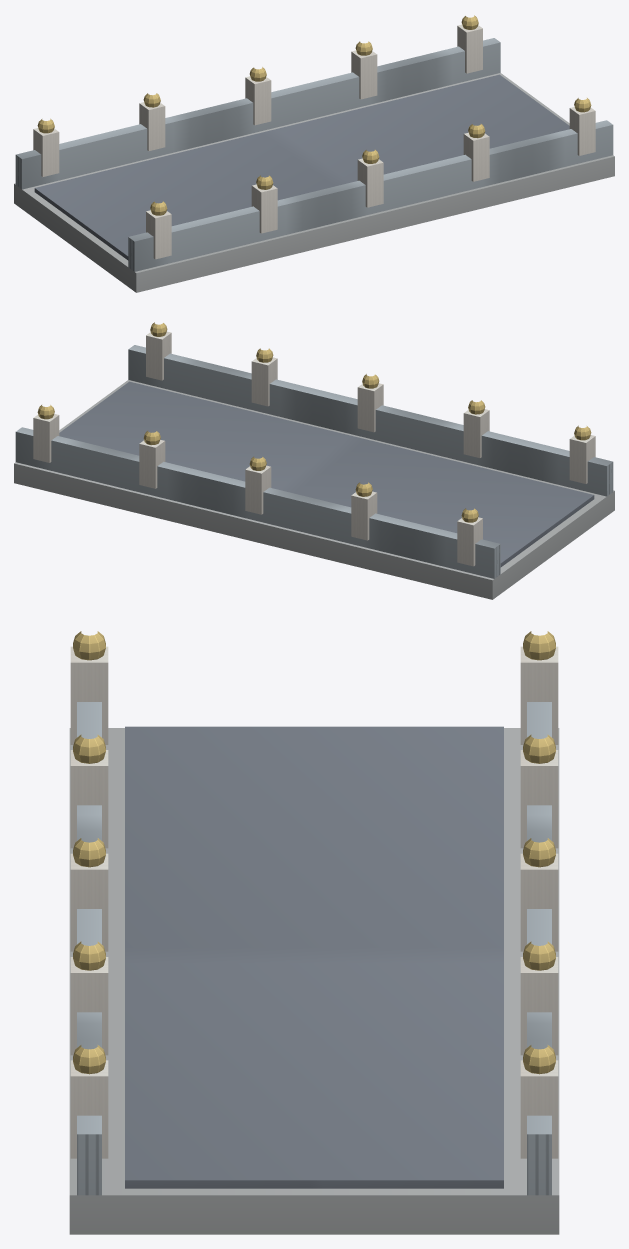
The model's file is bridge_canal.glb.
3 renders of one model, top to bottom at view 1: azimuth 30°, elevation 25°; view 2: azimuth 150°, elevation 25°; view 3: azimuth 270°, elevation 25°, orthographic. The views are drawn at different scales.
Visible parts, largest first — view 1: bridge_canal; view 2: bridge_canal; view 3: bridge_canal.
Part boxes in pixels (<box>): bridge_canal: <box>14,15,614,292</box>; bridge_canal: <box>14,322,614,599</box>; bridge_canal: <box>69,631,559,1234</box>.
Size of the model in its own units: 14 by 2.29 by 6.2.
Materials: 1 (1 with a texture image).
